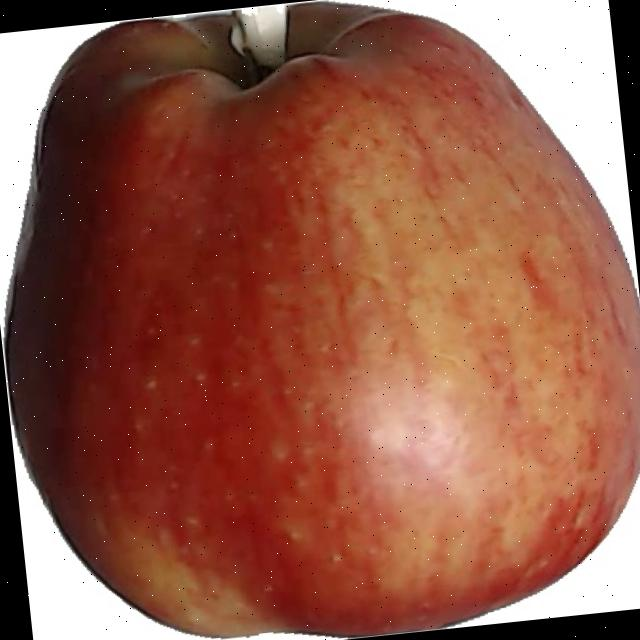apple: (0, 0, 640, 638)
